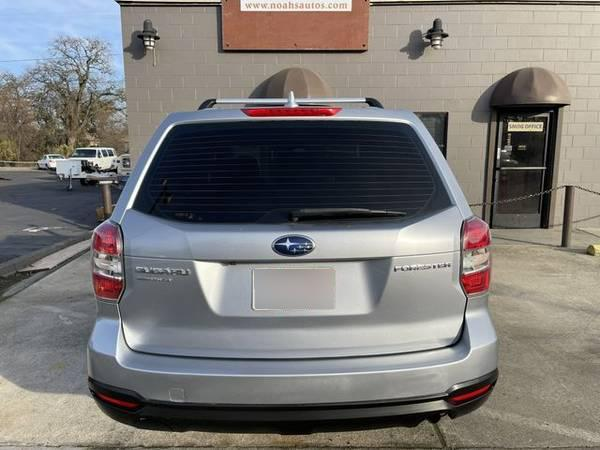Left_Taillight: (89, 215, 124, 301)
Rear_Bumper: (87, 294, 497, 424)
Rear_Windshield: (119, 102, 463, 229)
Right_Taillight: (460, 218, 494, 296)
Tailgate: (108, 198, 471, 359)
